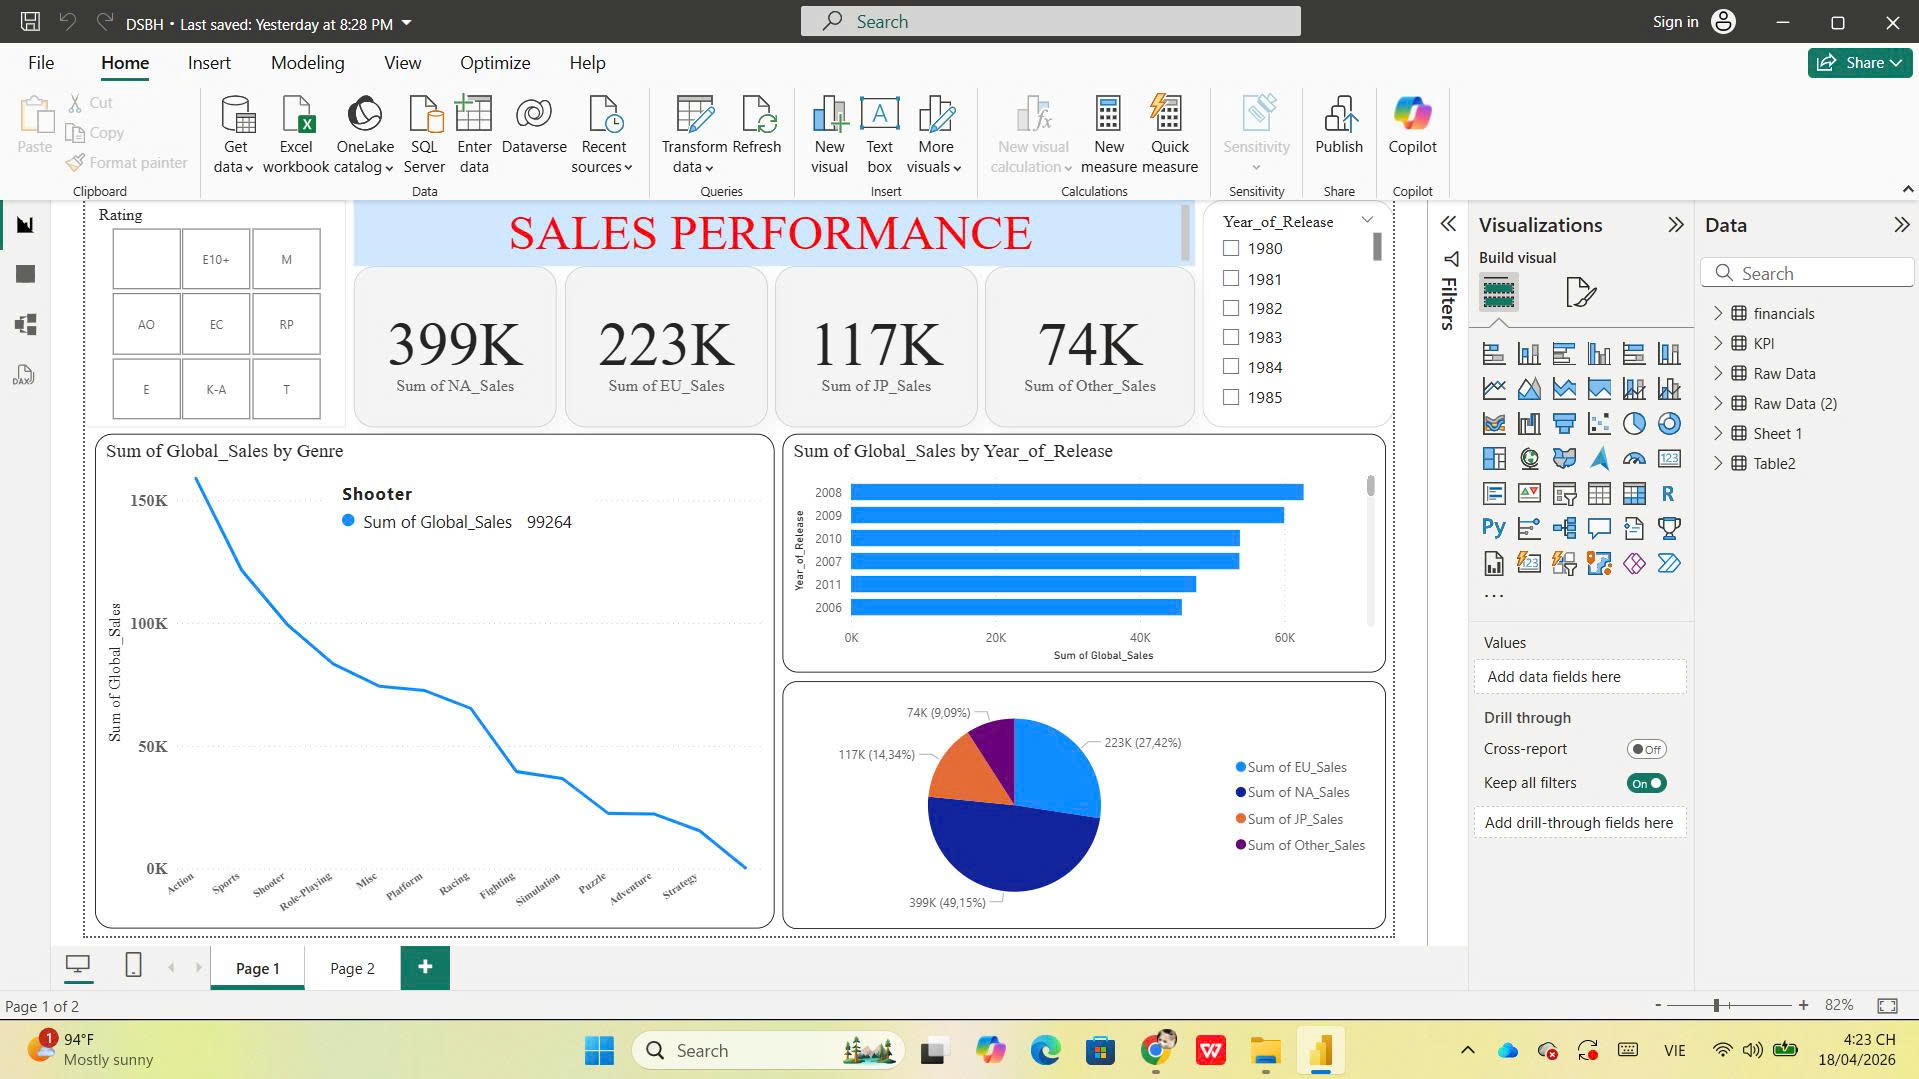

This screenshot's page, from the dashboard's own definition file:
{"tool":"powerbi","page":{"name":"Page 1","canvas":[1280,720],"ordinal":0},"visuals":[{"type":"textbox","box":[263.3,0,822.9,64.7],"z":0},{"type":"slicer","fields":{"Values":["Raw Data.Year_of_Release"]},"box":[1093.3,0,187.1,222.6],"z":1000},{"type":"slicer","fields":{"Values":["Raw Data.Rating"]},"box":[0,0,255.4,222.6],"z":2000},{"type":"card","fields":{"Values":["Sum(Raw Data.NA_Sales)"]},"box":[263.3,64.7,198.6,157.8],"z":3000},{"type":"card","fields":{"Values":["Sum(Raw Data.EU_Sales)"]},"box":[469.1,64.7,198.6,157.8],"z":4000},{"type":"card","fields":{"Values":["Sum(Raw Data.JP_Sales)"]},"box":[674.8,64.7,198.6,157.8],"z":5000},{"type":"card","fields":{"Values":["Sum(Raw Data.Other_Sales)"]},"box":[880.5,64.7,205.7,157.8],"z":6000},{"type":"lineChart","fields":{"Y":["Sum(Raw Data.Global_Sales)"],"Category":["Raw Data.Genre"]},"box":[9.8,228.8,665,484.1],"z":7000},{"type":"pieChart","title":"Sum of Global_Sales","fields":{"Y":["Sum(Raw Data.EU_Sales)","Sum(Raw Data.NA_Sales)","Sum(Raw Data.JP_Sales)","Sum(Raw Data.Other_Sales)"]},"box":[681.9,470.8,590.5,242.1],"z":8000},{"type":"barChart","fields":{"Y":["Sum(Raw Data.Global_Sales)"],"Category":["Raw Data.Year_of_Release"]},"box":[681.9,228.8,590.5,233.2],"z":9000}]}

Visuals, with their boxes on the page's 1280x720 design canvas (x1, y1, x2, y2). These are canvas units, not pixel positions in the 1919x1079 screenshot, which may show the page scaled, cropped or inside an application window:
textbox: (left=263, top=0, right=1086, bottom=65)
slicer - Raw Data.Year_of_Release: (left=1093, top=0, right=1280, bottom=223)
slicer - Raw Data.Rating: (left=0, top=0, right=255, bottom=223)
card - Sum(Raw Data.NA_Sales): (left=263, top=65, right=462, bottom=222)
card - Sum(Raw Data.EU_Sales): (left=469, top=65, right=668, bottom=222)
card - Sum(Raw Data.JP_Sales): (left=675, top=65, right=873, bottom=222)
card - Sum(Raw Data.Other_Sales): (left=880, top=65, right=1086, bottom=222)
lineChart - Sum(Raw Data.Global_Sales) x Raw Data.Genre: (left=10, top=229, right=675, bottom=713)
"Sum of Global_Sales" pieChart: (left=682, top=471, right=1272, bottom=713)
barChart - Sum(Raw Data.Global_Sales) x Raw Data.Year_of_Release: (left=682, top=229, right=1272, bottom=462)
